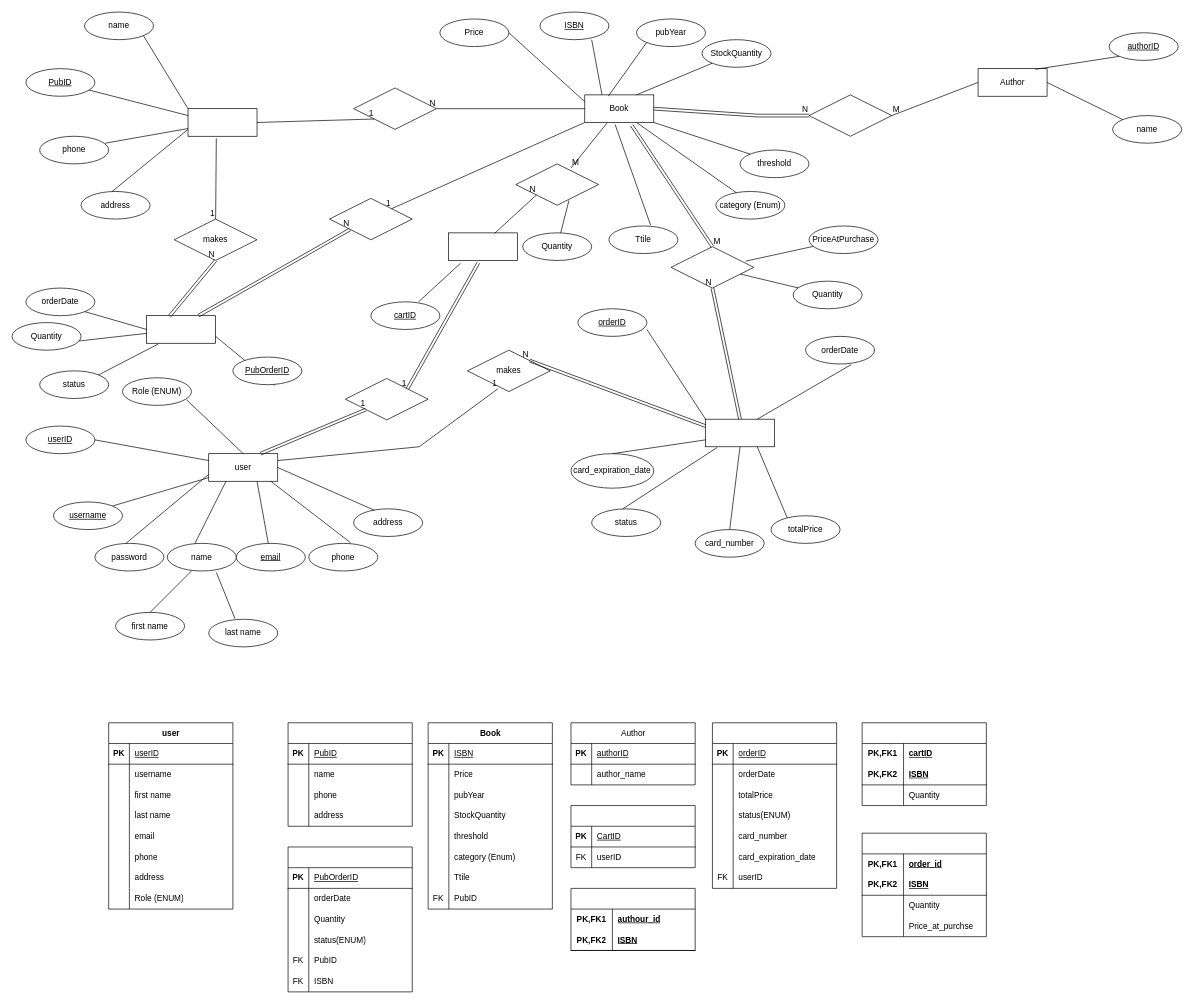
This 1194x1004 diagram has some shape labels left out. Each missing label, with the box of its shape:
book_authors: (570, 888, 695, 950)
cart_item: (861, 722, 986, 806)
contains: (670, 246, 754, 288)
Customer_order: (712, 722, 837, 888)
customer_order_item: (861, 832, 986, 937)
CustOrder: (705, 418, 775, 447)
has: (345, 378, 428, 420)
Inculdes: (515, 163, 599, 205)
PUB: (187, 108, 257, 136)
Publisher: (287, 722, 412, 826)
Publisher_order: (287, 846, 412, 992)
Publishes: (353, 87, 436, 129)
PubOrder: (146, 315, 216, 343)
RestockedBy: (329, 198, 412, 240)
Shopping_cart: (570, 805, 695, 868)
ShoppingCart: (448, 232, 518, 260)
WrittenBy: (808, 94, 892, 136)
